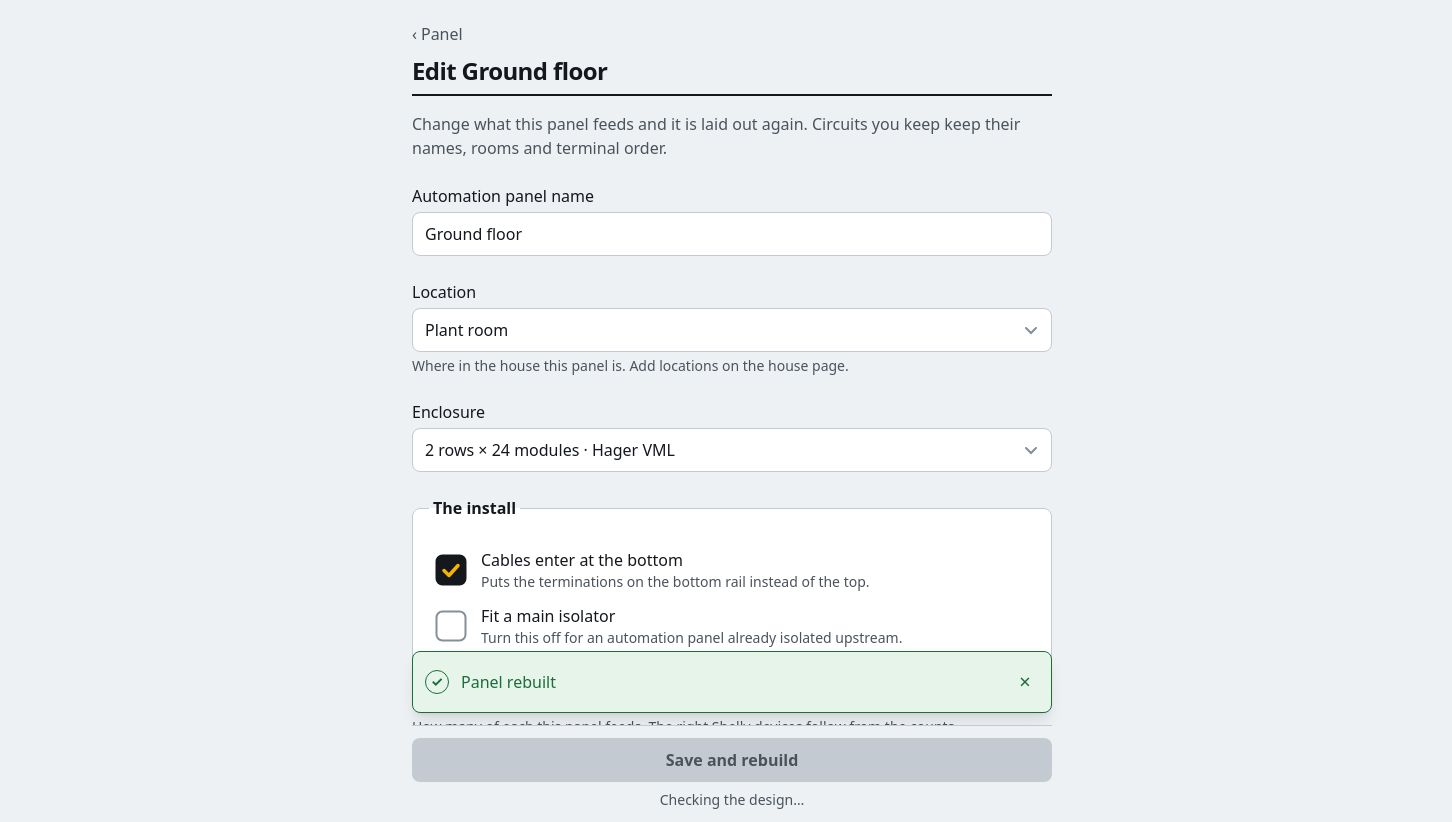
Scenario: EditSubmainPage › opens on the panel's location and moves it to another with the save
The image size is (1452, 822).
Select "Garage" in the dropdown labelled "Location" at (732, 330), box left=412, top=308, right=1052, bottom=352
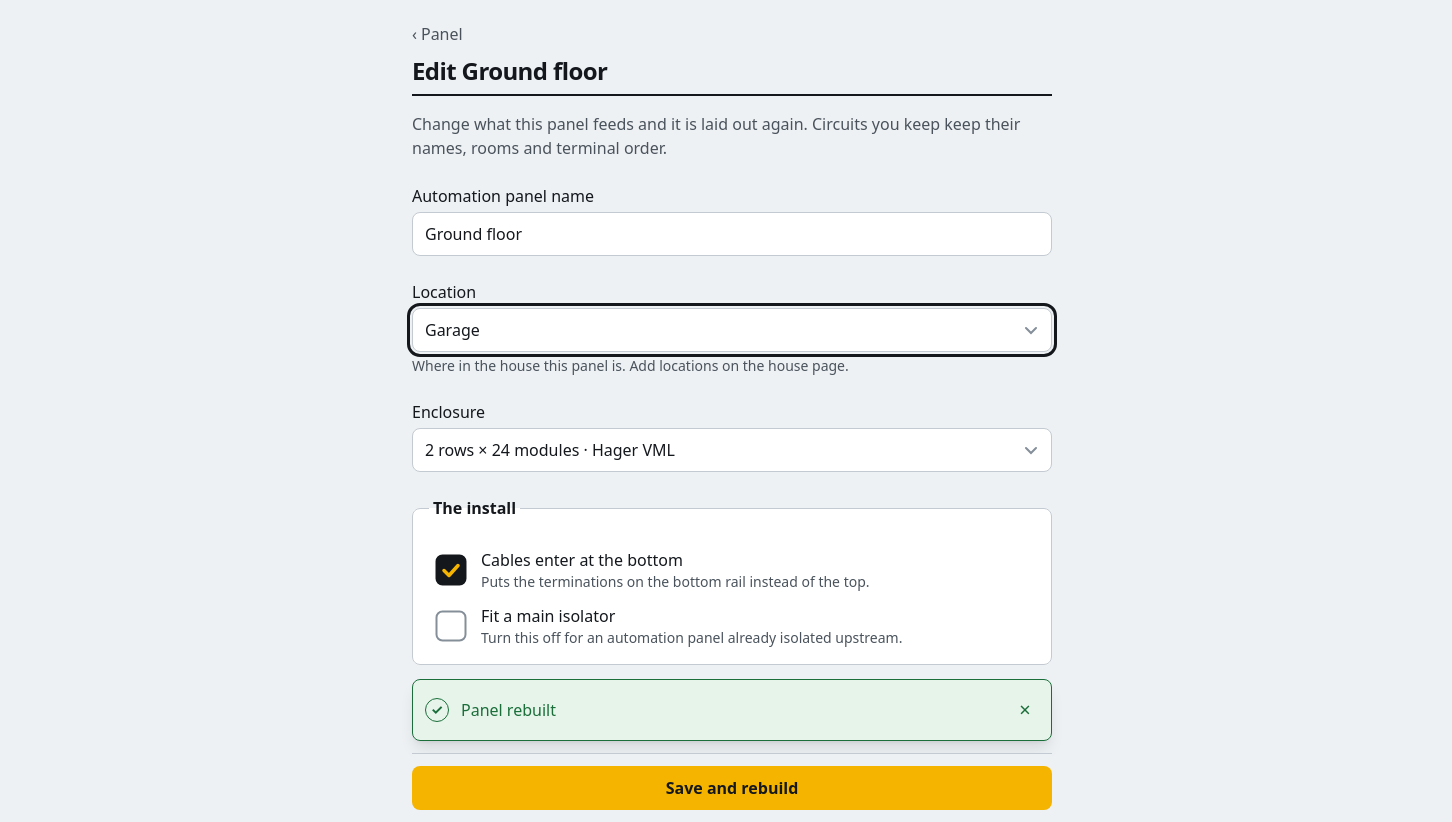
Check: the button "Save and rebuild" is enabled
Click the button "Save and rebuild".
click(732, 788)  # box left=412, top=766, right=1052, bottom=810
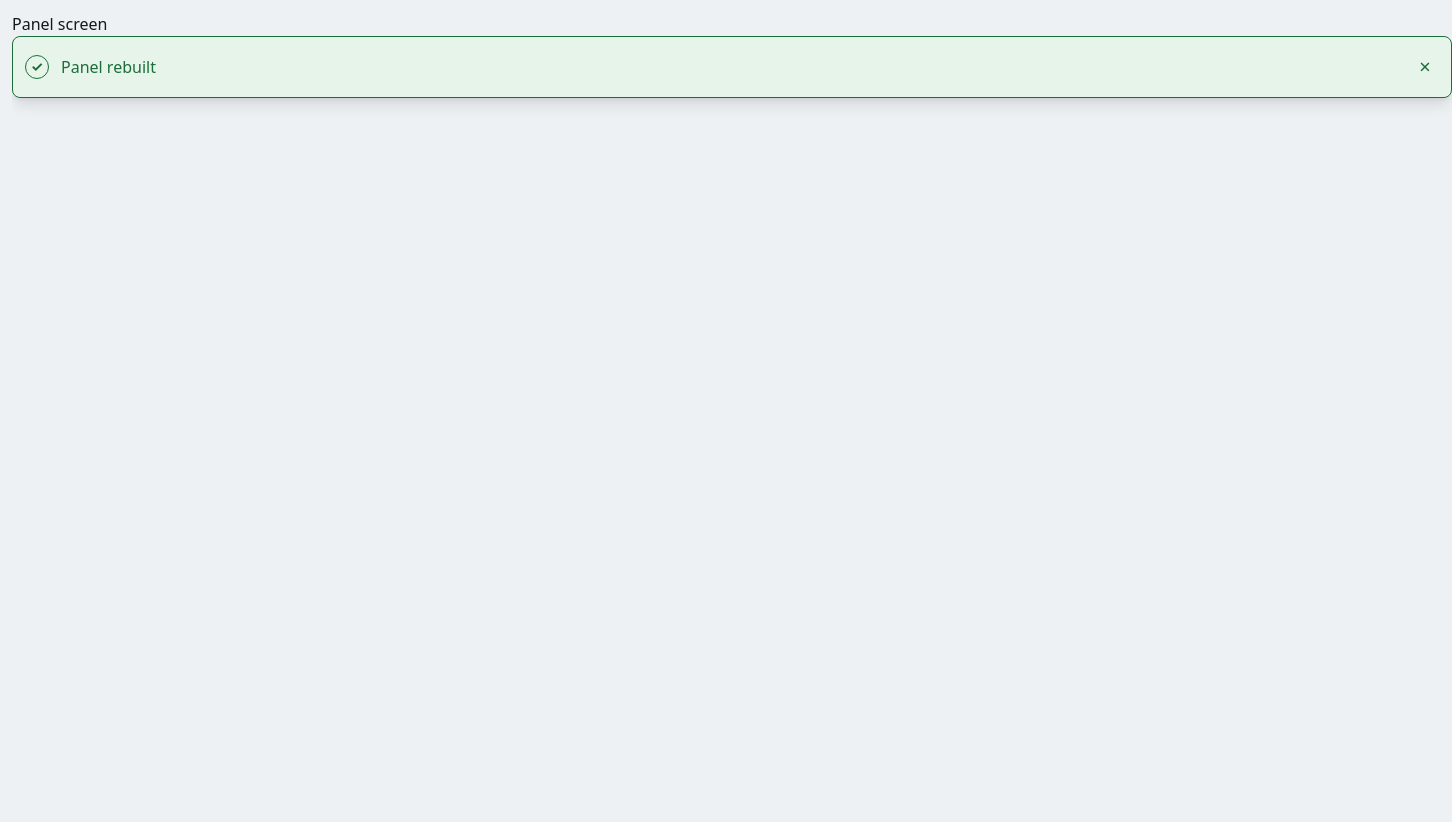
Check: the heading "Panel screen" is shown, box left=12, top=13, right=107, bottom=35
